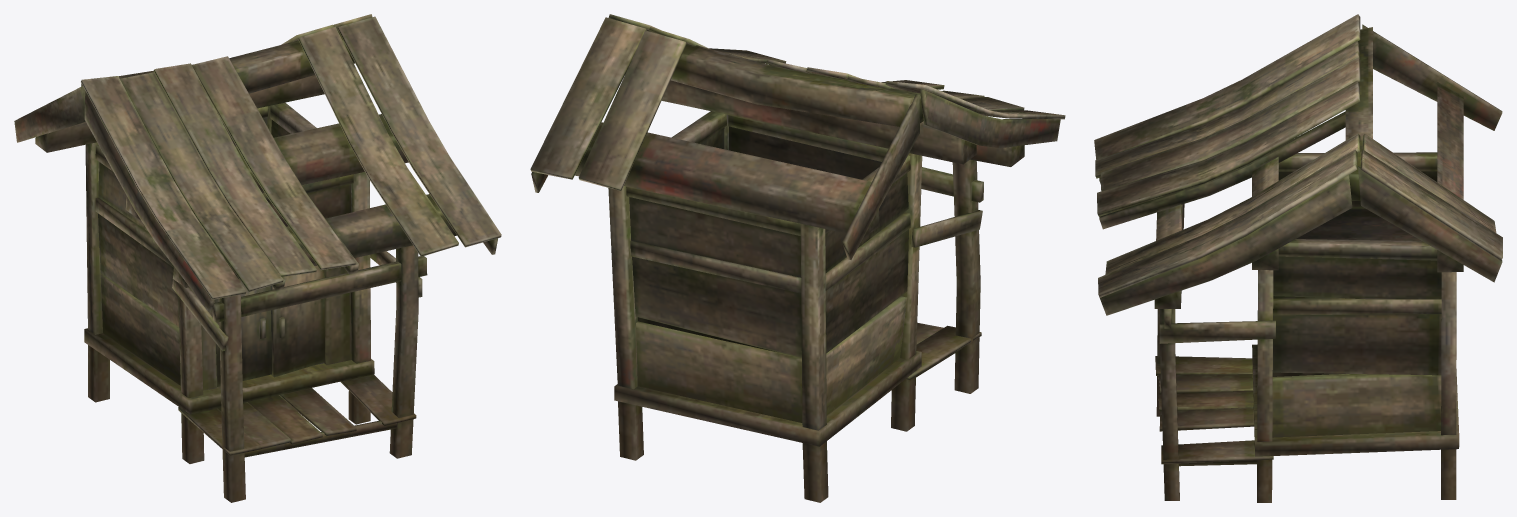
Rendered from HomeSmall2.fbx.
The picture shows the model from 3 angles, left to right: view 1: azimuth 30°, elevation 25°; view 2: azimuth 150°, elevation 25°; view 3: azimuth 270°, elevation 25°; orthographic projection. The views are drawn at different scales.
Parts seen in each view (by area): view 1: SM_cmn_mount_Shrine_02a; view 2: SM_cmn_mount_Shrine_02a; view 3: SM_cmn_mount_Shrine_02a.
Part boxes in pixels (x1,y1,x2,y2): SM_cmn_mount_Shrine_02a: (14,14,501,502); SM_cmn_mount_Shrine_02a: (530,14,1065,502); SM_cmn_mount_Shrine_02a: (1094,14,1502,502).
Size of the model in its own units: 93.11 by 110 by 110.
